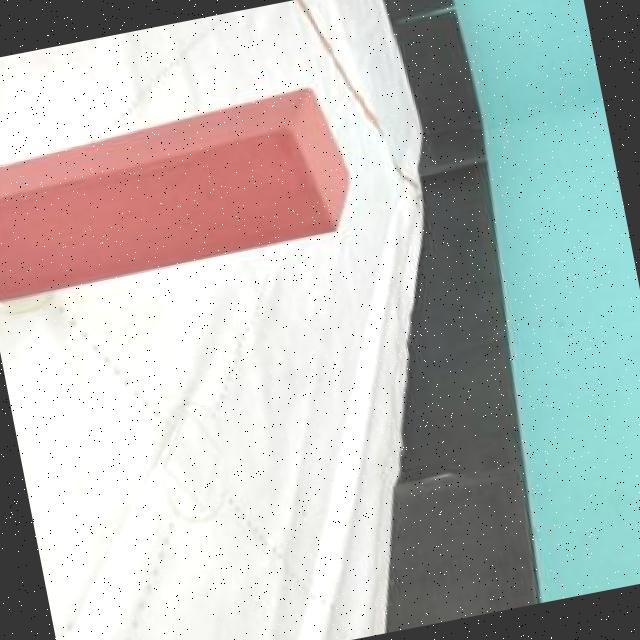redbox: (0, 82, 362, 303)
